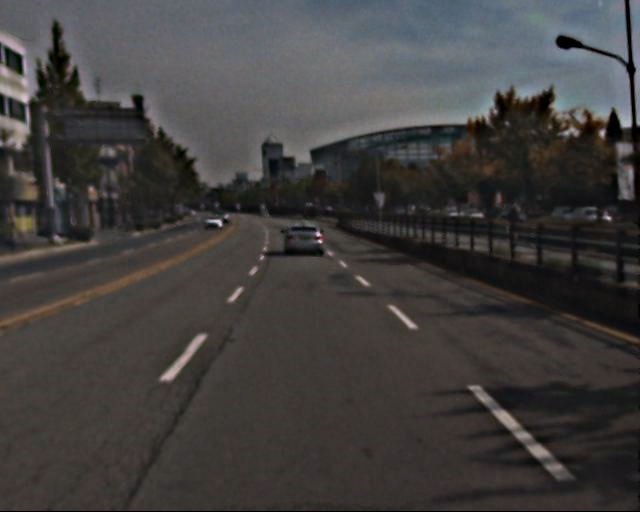person: (502, 204, 523, 255)
